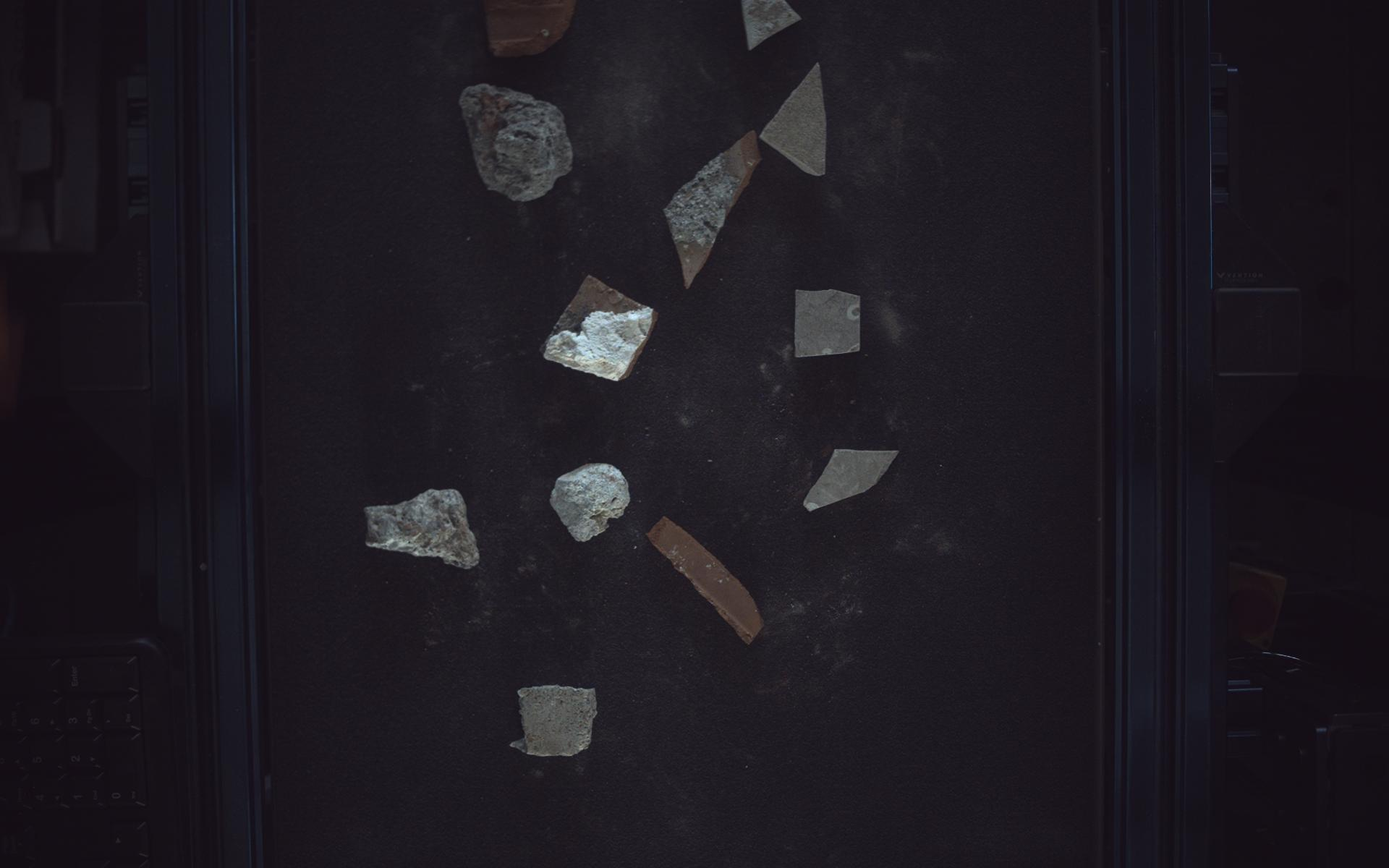brick: (665, 130, 761, 288), (647, 517, 765, 644), (544, 275, 658, 381), (485, 1, 577, 56)
concrete: (459, 82, 573, 200), (365, 490, 480, 569), (511, 686, 598, 758), (552, 464, 630, 542)
tile: (761, 62, 828, 175), (805, 450, 900, 511), (797, 289, 862, 357), (744, 1, 802, 48)
